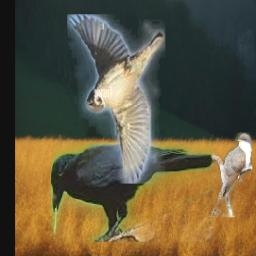Crow: (50, 144, 212, 243)
Cuckoo: (211, 134, 251, 218)
Sparrow: (67, 14, 165, 184)
